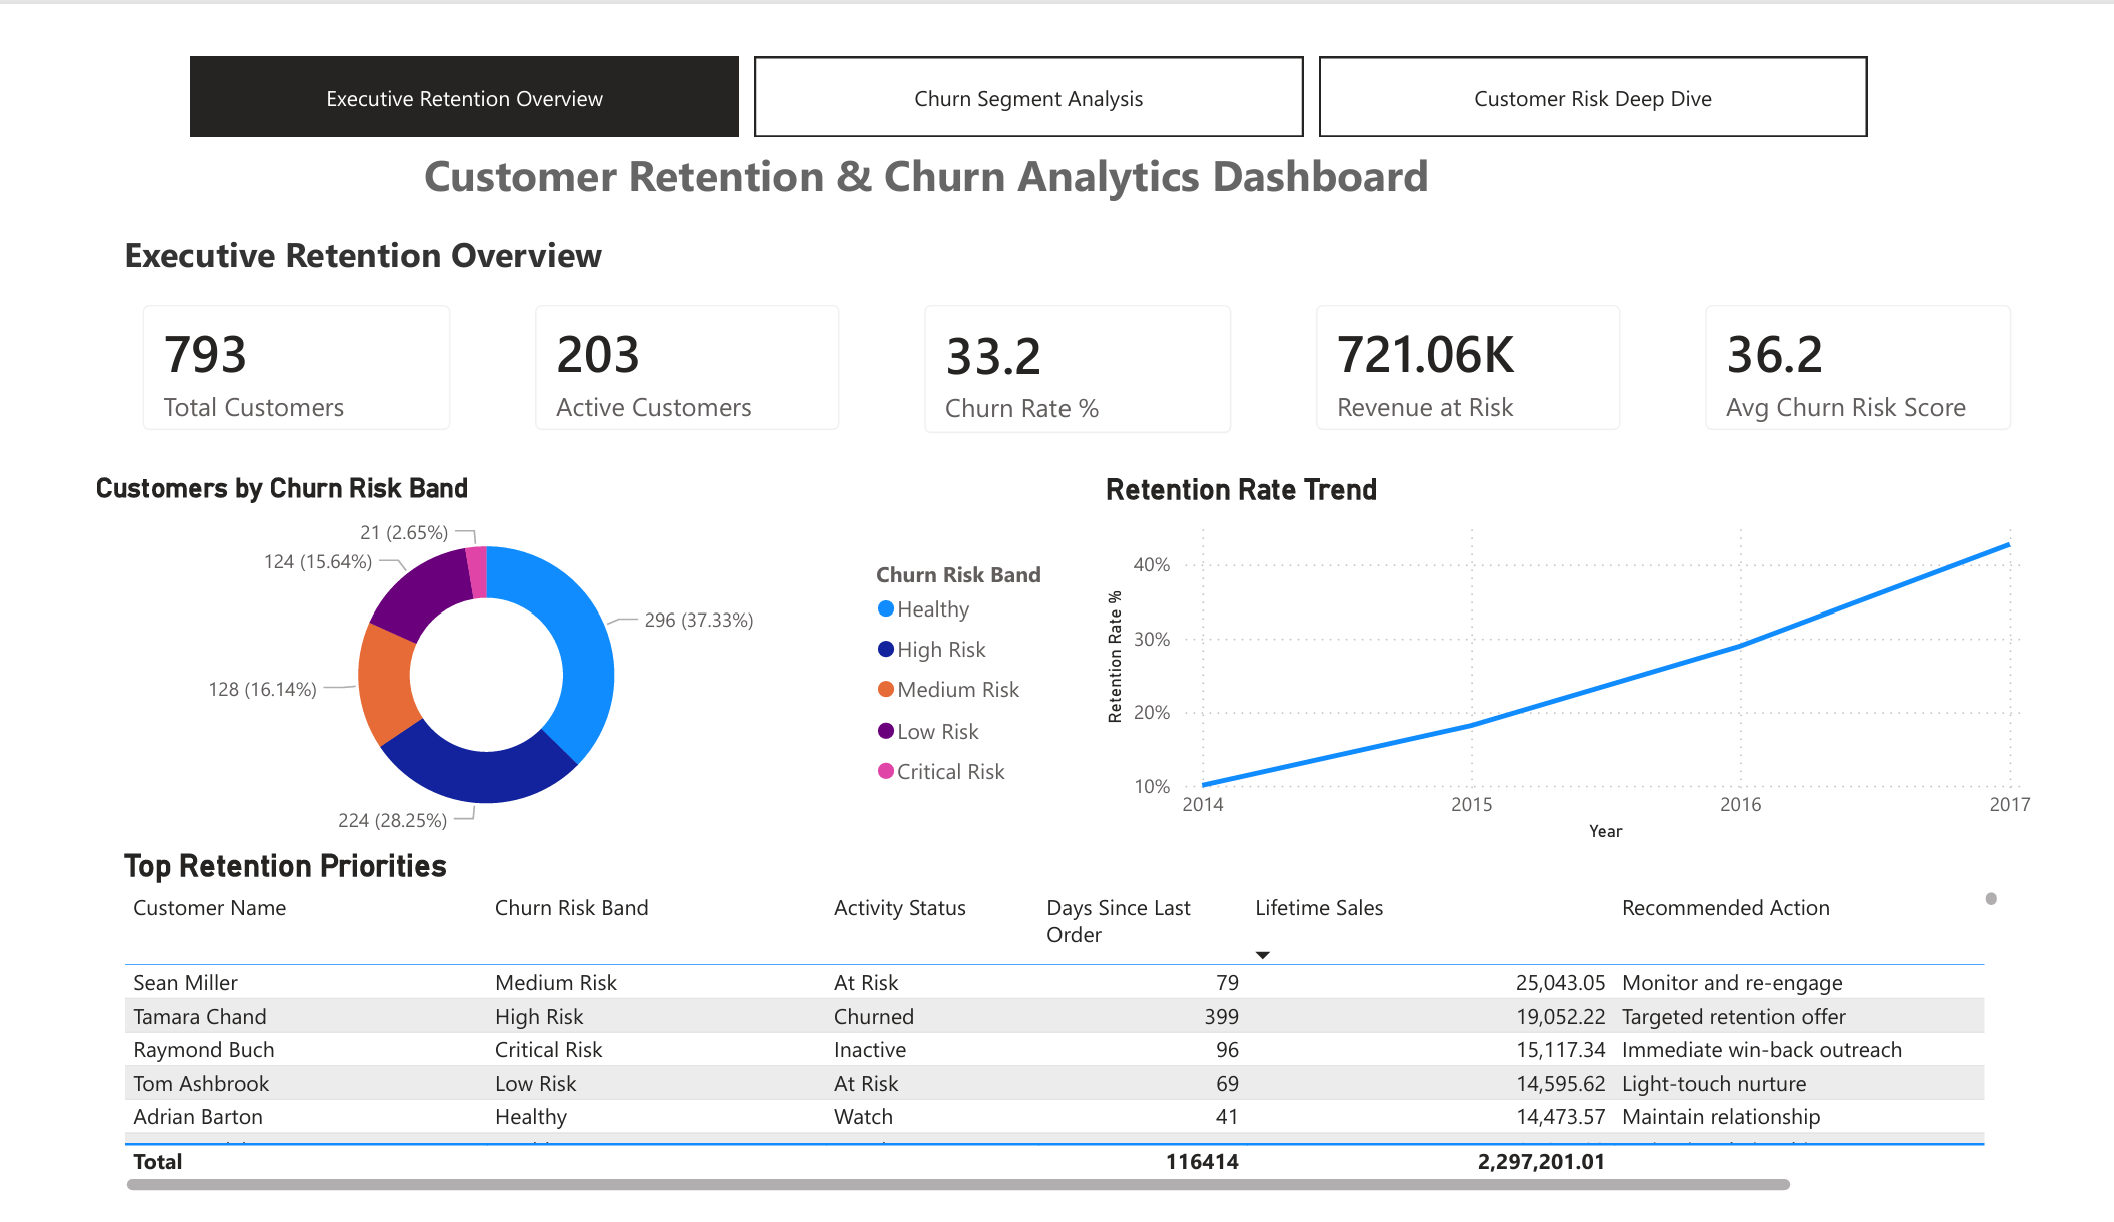

This screenshot's page, from the dashboard's own definition file:
{"tool":"powerbi","page":{"name":"Executive Retention Overview","canvas":[1280,720],"ordinal":0},"visuals":[{"type":"cardVisual","fields":{"Data":["Sum(churn_kpi_summary.total_customers)"]},"box":[50,147.1,226,112.2],"z":0},{"type":"cardVisual","fields":{"Data":["Sum(churn_kpi_summary.churn_rate_pct)"]},"box":[538.4,147.1,224.5,113.7],"z":1000},{"type":"cardVisual","fields":{"Data":["Sum(churn_kpi_summary.revenue_at_high_risk)"]},"box":[781.8,147.1,224.5,112.2],"z":2000},{"type":"cardVisual","fields":{"Data":["Sum(churn_kpi_summary.avg_churn_risk_score)"]},"box":[1025.2,147.1,224.5,112.2],"z":3000},{"type":"cardVisual","fields":{"Data":["Sum(churn_kpi_summary.active_customers)"]},"box":[295,147.1,224.5,112.2],"z":4000},{"type":"donutChart","title":"Customers by Churn Risk Band","fields":{"Category":["churn_segment_summary.churn_risk_band"],"Y":["Sum(churn_segment_summary.customer_count)"]},"box":[33.4,268.4,615.7,233.6],"z":5000},{"type":"tableEx","title":"Top Retention Priorities","fields":{"Values":["churn_customer_detail.customer_name","churn_customer_detail.churn_risk_band","churn_customer_detail.inactivity_status","Sum(churn_customer_detail.days_since_last_order)","Sum(churn_customer_detail.lifetime_sales)","churn_customer_detail.recommended_retention_action"]},"box":[50,502,1179.9,219.9],"z":6000},{"type":"lineChart","title":"Retention Rate Trend","fields":{"Category":["churn_monthly_retention.activity_month.Variation.Date Hierarchy.Year","churn_monthly_retention.activity_month.Variation.Date Hierarchy.Month"],"Y":["Sum(churn_monthly_retention.retention_rate_pct)"]},"box":[662.7,268.4,586.9,233.6],"z":7000},{"type":"textbox","box":[10.6,59.1,1090.4,53.1],"z":8000},{"type":"textbox","box":[50,112.2,465.6,51.6],"z":9000},{"type":"pageNavigator","box":[97.1,9.1,1046.4,50],"z":10000}]}

Visuals, with their boxes in screenshot pixels (x1, y1, x2, y2), scaled from the page's 1280x720 canvas onto the 2114x1222 screenshot:
cardVisual - Sum(churn_kpi_summary.total_customers): [83,250,456,440]
cardVisual - Sum(churn_kpi_summary.churn_rate_pct): [889,250,1260,443]
cardVisual - Sum(churn_kpi_summary.revenue_at_high_risk): [1291,250,1662,440]
cardVisual - Sum(churn_kpi_summary.avg_churn_risk_score): [1693,250,2064,440]
cardVisual - Sum(churn_kpi_summary.active_customers): [487,250,858,440]
"Customers by Churn Risk Band" donutChart: [55,456,1072,852]
"Top Retention Priorities" tableEx: [83,852,2031,1221]
"Retention Rate Trend" lineChart: [1094,456,2064,852]
textbox: [18,100,1818,190]
textbox: [83,190,852,278]
pageNavigator: [160,15,1889,100]
